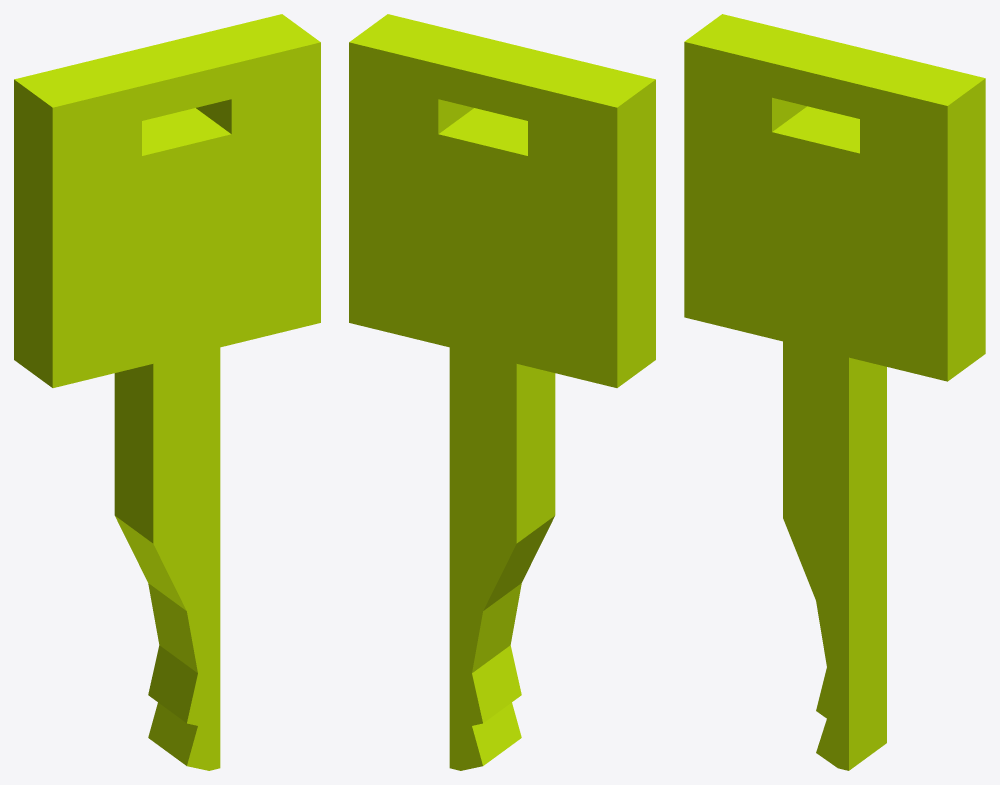
Rendered from cheie.fbx.
3 views of the same model, side by side, from view 1: azimuth 30°, elevation 25°; view 2: azimuth 150°, elevation 25°; view 3: azimuth 330°, elevation 25° (orthographic).
Visible parts, largest first — view 1: cuboid, cuboid_1; view 2: cuboid, cuboid_1; view 3: cuboid, cuboid_1.
Part boxes in pixels (box(x1,y1,x2,y2)): cuboid: box(14, 14, 320, 387); cuboid_1: box(114, 347, 220, 770); cuboid: box(349, 14, 655, 387); cuboid_1: box(449, 347, 555, 770); cuboid: box(684, 14, 985, 381); cuboid_1: box(783, 341, 886, 770).
Size of the model in its own units: 12.5 by 31.25 by 3.12.
Materials: 2 (2 with a texture image).
